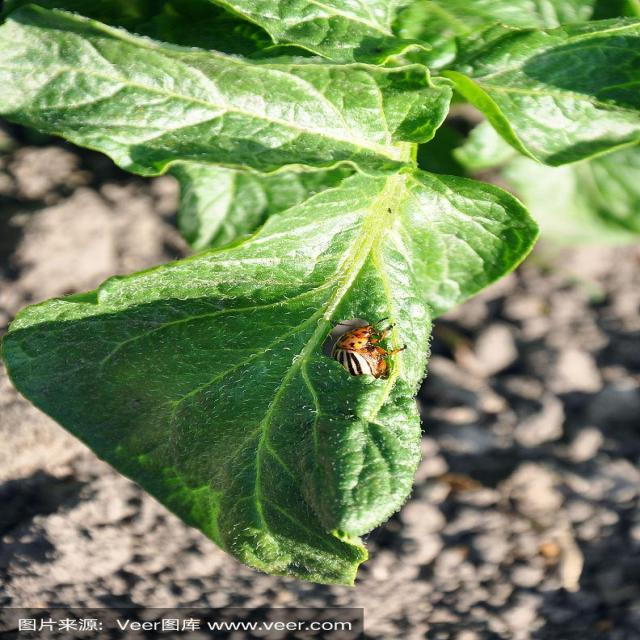ShuCaiHuaBanChong-Grown-: (314, 324, 402, 399)
